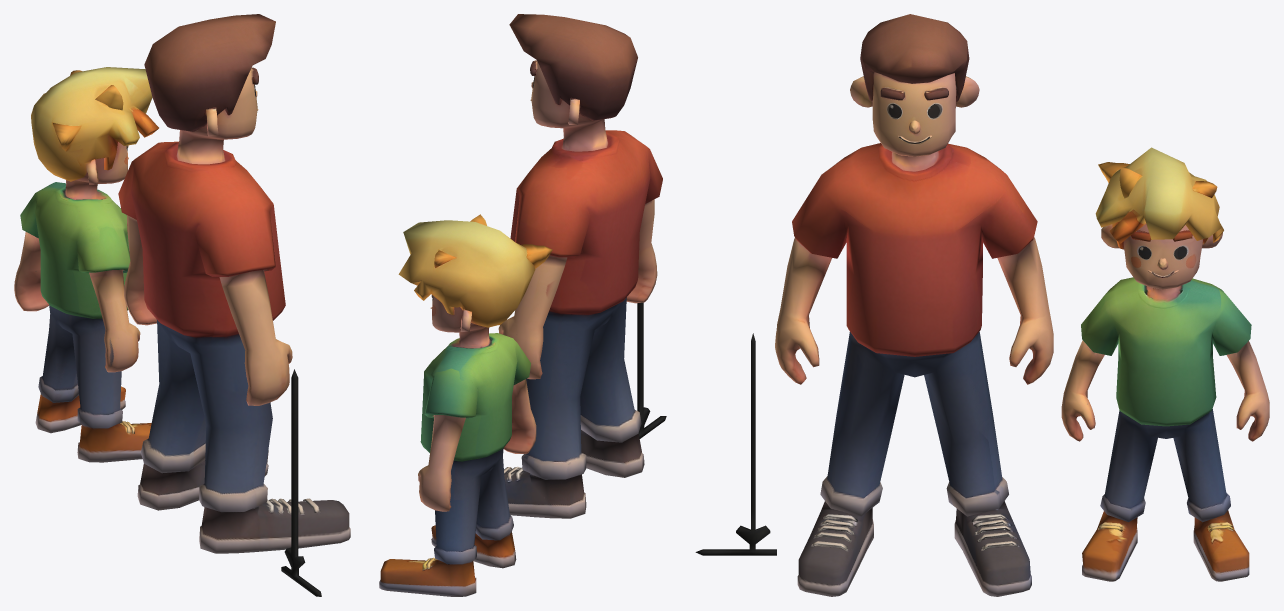
File: tile21.glb
The picture shows the model from 3 angles, left to right: view 1: azimuth 30°, elevation 25°; view 2: azimuth 150°, elevation 25°; view 3: azimuth 270°, elevation 25°; orthographic projection. The views are drawn at different scales.
Parts seen in each view (by area): view 1: tripo_node_f1319808-41d0-4d5e-9e99-45cd55151f85; view 2: tripo_node_f1319808-41d0-4d5e-9e99-45cd55151f85; view 3: tripo_node_f1319808-41d0-4d5e-9e99-45cd55151f85.
Boxes of the visible parts, x1=… form: tripo_node_f1319808-41d0-4d5e-9e99-45cd55151f85: x1=14, y1=14, x2=350, y2=596; tripo_node_f1319808-41d0-4d5e-9e99-45cd55151f85: x1=379, y1=14, x2=666, y2=596; tripo_node_f1319808-41d0-4d5e-9e99-45cd55151f85: x1=695, y1=14, x2=1269, y2=596.
Size of the model in its own units: 0.9399 by 2.84 by 2.81.
Materials: 1 (1 with a texture image).
